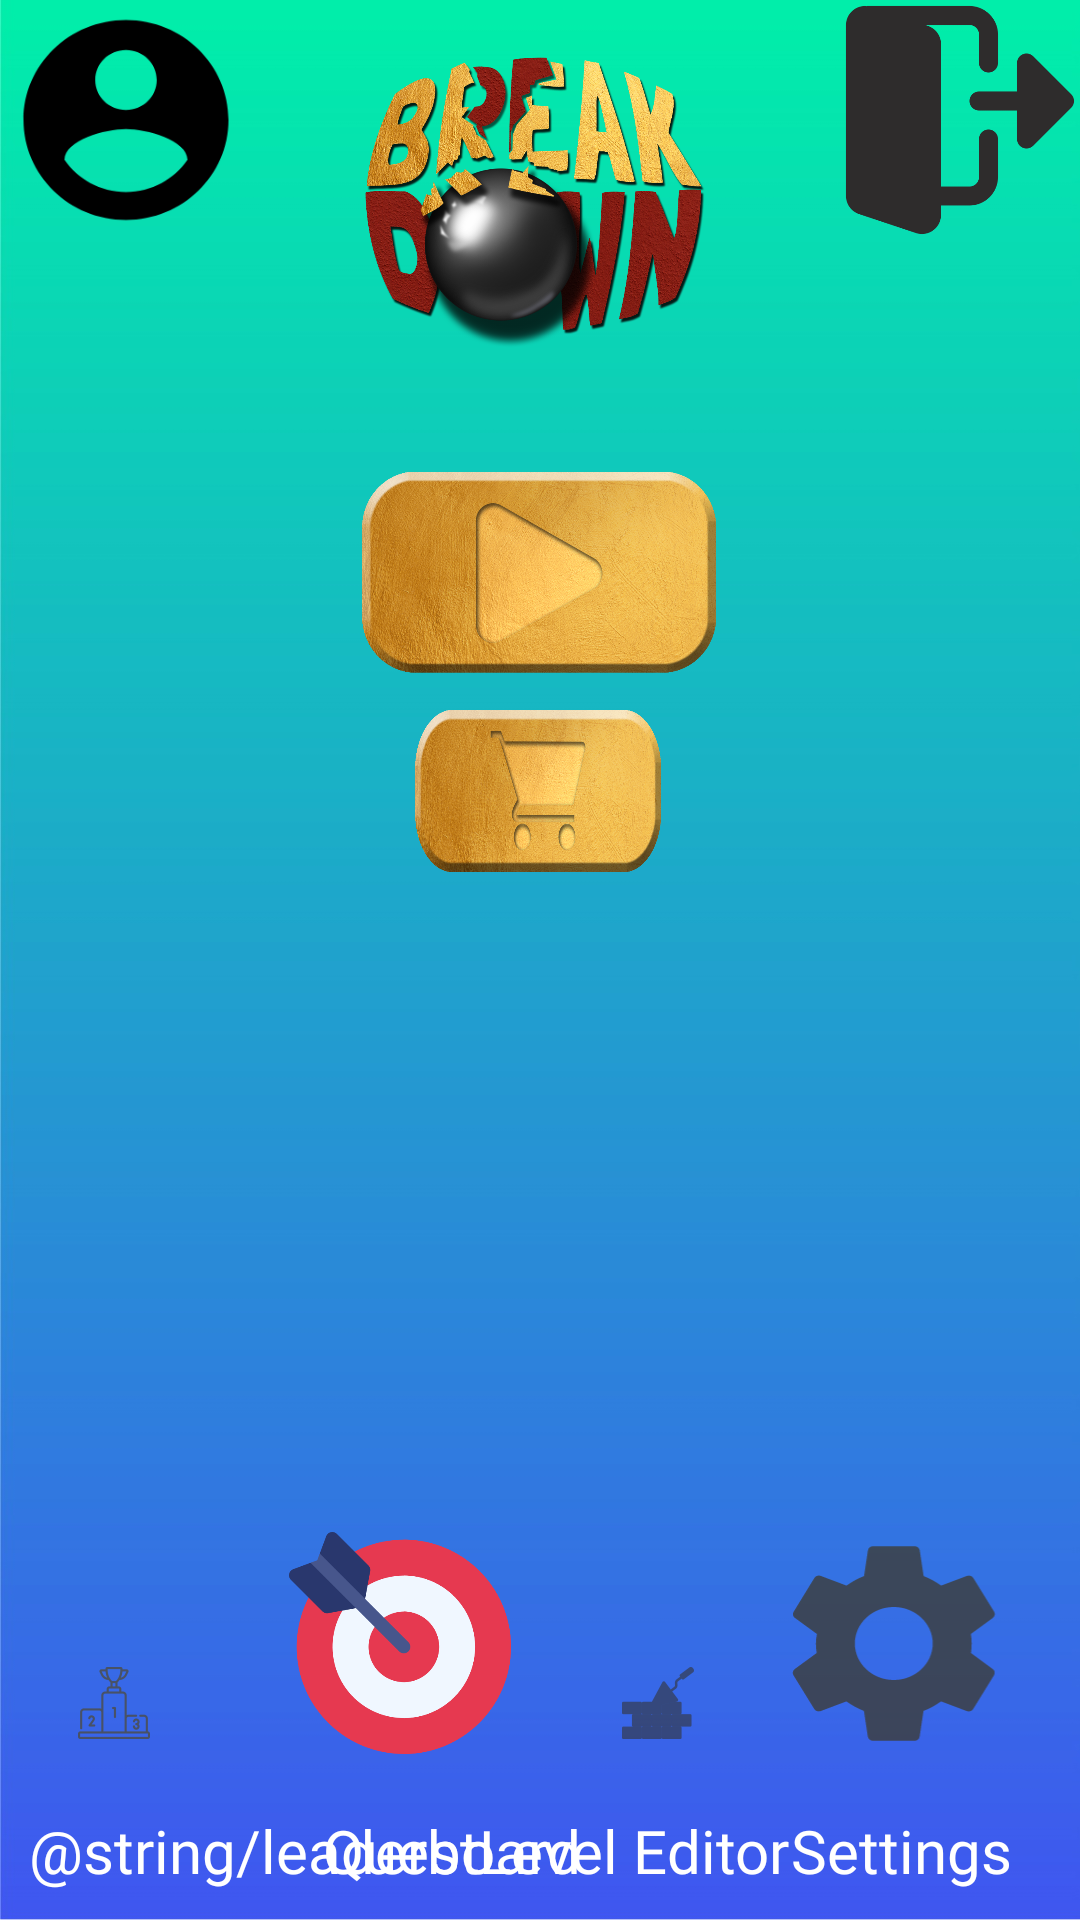

Icons on this 1080px×1920px Android screen, each with the point to tap as (x=x, y=y):
ranking: (x=114, y=1703)
user: (x=126, y=120)
